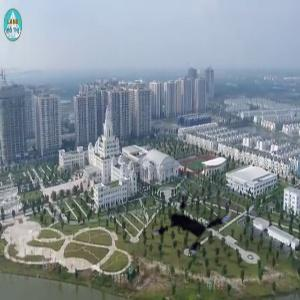drone: (141, 168, 240, 267)
